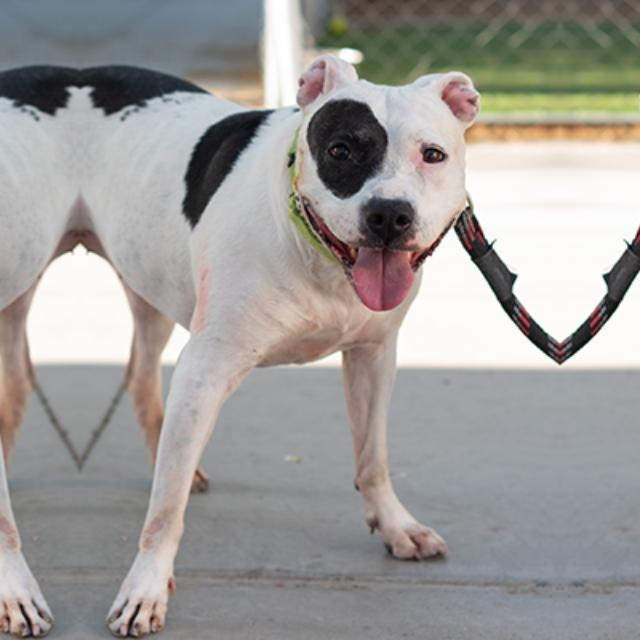dog: (80, 22, 560, 640), (560, 22, 640, 640), (0, 22, 79, 640)
